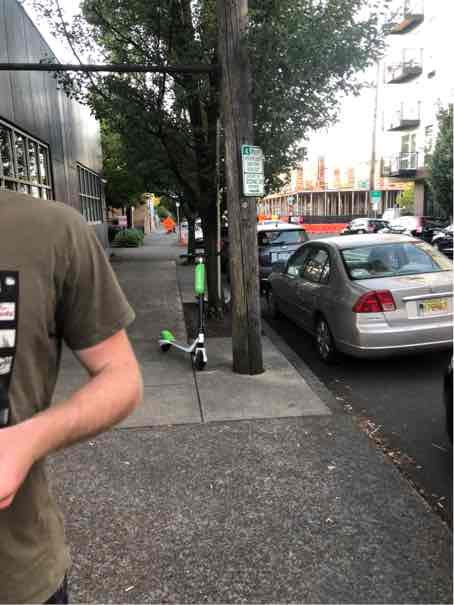scooter: (163, 220, 224, 372)
